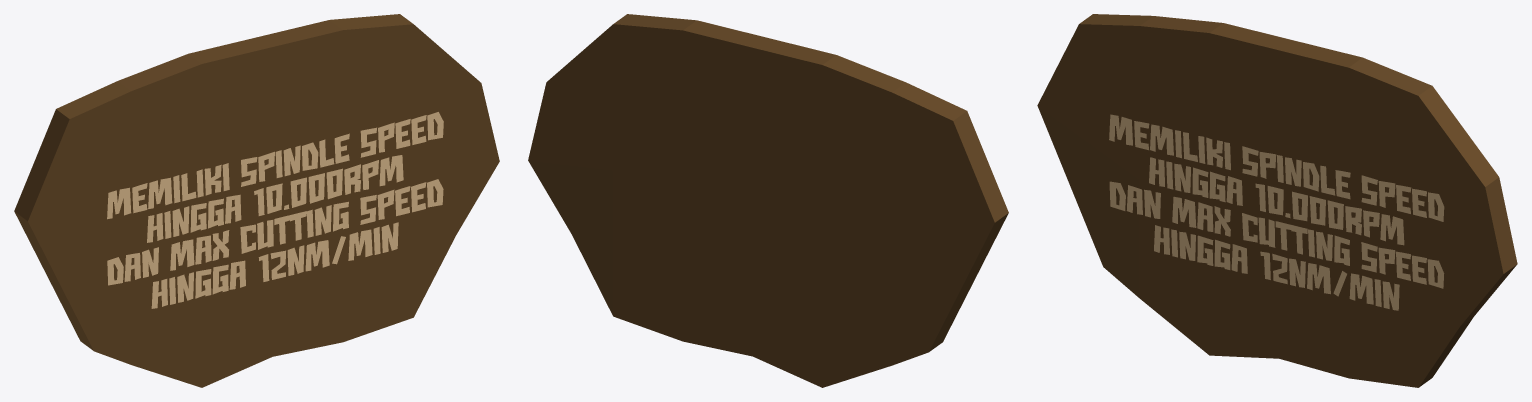
File: ui_3_CNC SUPERMILL .fbx
The picture shows the model from 3 angles, left to right: view 1: azimuth 30°, elevation 25°; view 2: azimuth 150°, elevation 25°; view 3: azimuth 330°, elevation 25°; orthographic projection.
Visible parts, largest first — view 1: Cube.003, Text.002; view 2: Cube.003; view 3: Cube.003, Text.002.
Part boxes in pixels (<box>): Cube.003: <box>14,14,499,387</box>; Text.002: <box>107,112,443,308</box>; Cube.003: <box>528,14,1008,387</box>; Cube.003: <box>1037,14,1517,387</box>; Text.002: <box>1109,114,1444,310</box>.
Bounding box in the file's own units: 256 × 168 × 16.51.
